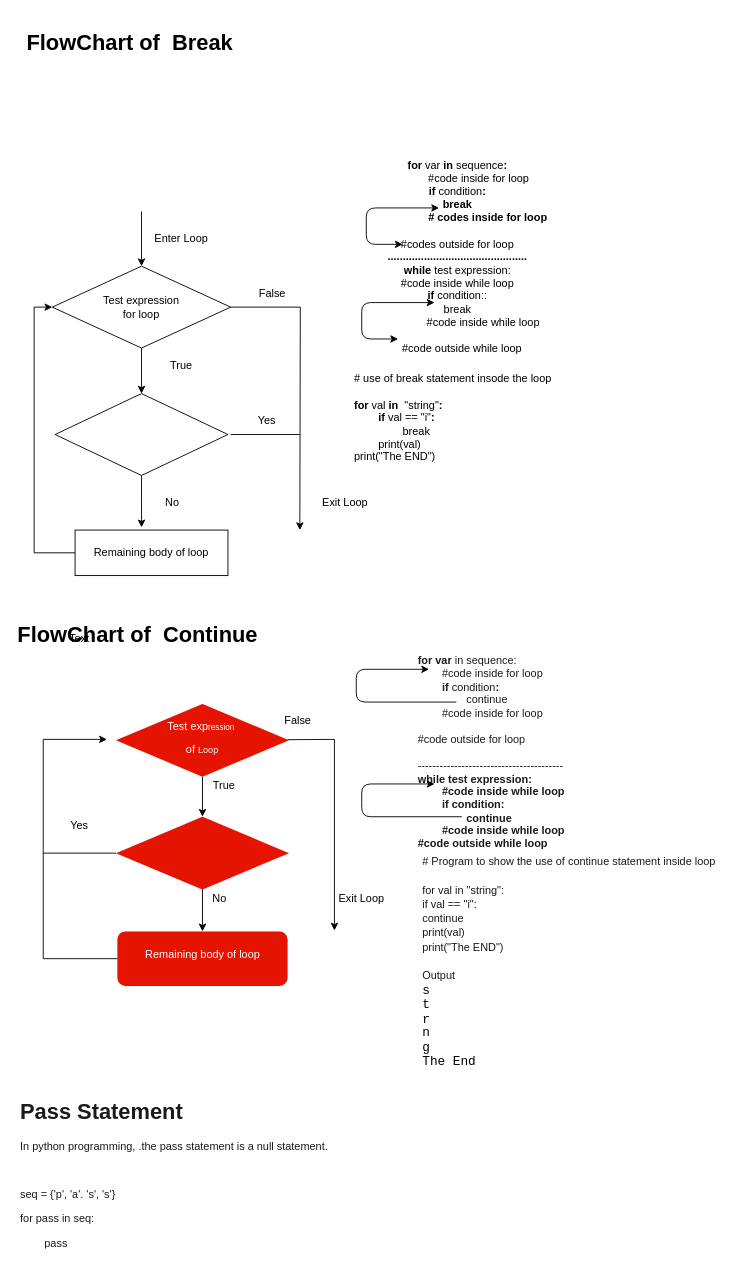
Some shapes in this 736 by 1265 pixel diagram are drawn without their labels. Each missing label, with the centre of its shape:
Break?: point 141,434
Continue?: point 202,852
